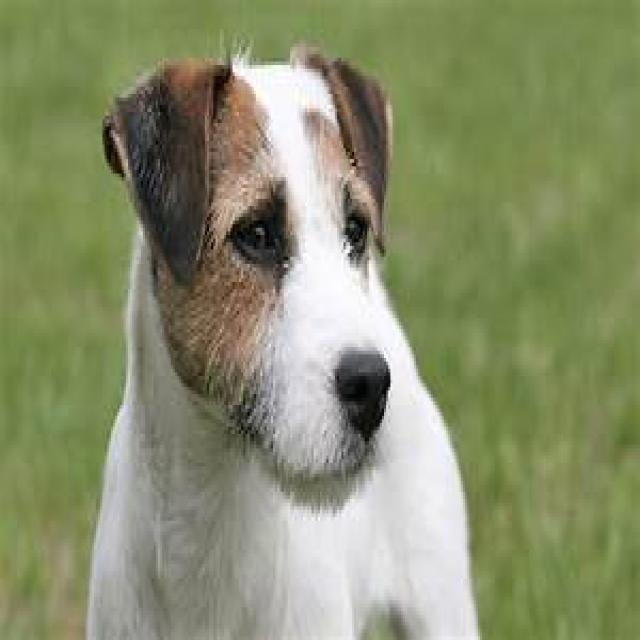dog: (85, 43, 482, 640)
